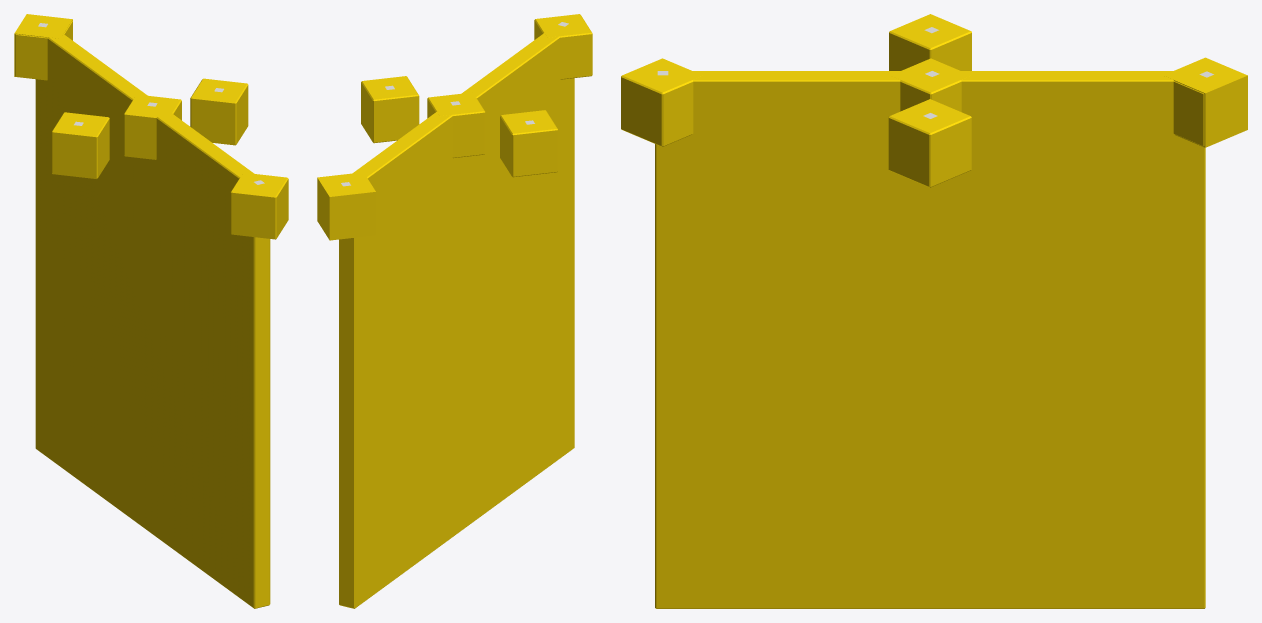
The model's file is level-05.glb.
3 views of the same model, side by side, from view 1: azimuth 30°, elevation 25°; view 2: azimuth 150°, elevation 25°; view 3: azimuth 270°, elevation 25° (orthographic). The views are drawn at different scales.
Parts seen in each view (by area): view 1: Cube.003, Cube.002; view 2: Cube.003, Cube.002; view 3: Cube.003, Cube.002.
Part boxes in pixels (x1,y1,x2,y2): Cube.003: [15, 15, 288, 608]; Cube.002: [14, 14, 72, 80]; Cube.003: [319, 14, 592, 608]; Cube.002: [317, 172, 375, 240]; Cube.003: [621, 14, 1244, 608]; Cube.002: [1163, 57, 1247, 147].
Size of what is drawn, in the model's own units: 53.22 by 110 by 117.
